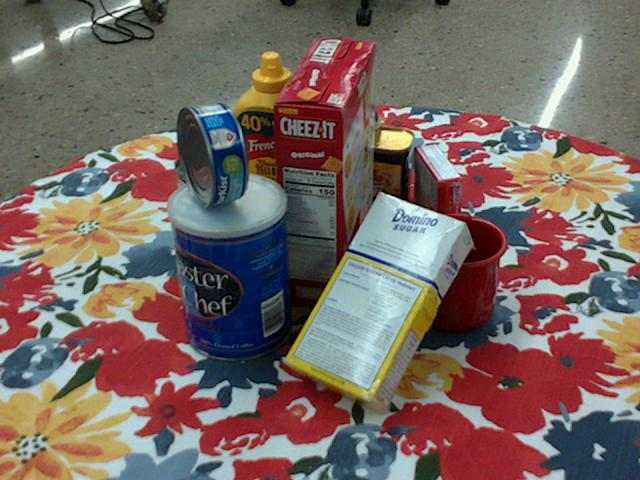cracker_box: (271, 40, 376, 311)
gelatin_box: (414, 142, 461, 238)
large_marker: (347, 77, 381, 128)
master_chef_can: (168, 174, 291, 364)
mug: (379, 212, 506, 331)
mustard_bottle: (230, 52, 323, 226)
potted_meat_can: (322, 122, 415, 212)
sugar_box: (283, 194, 472, 418)
tomato_soup_can: (175, 149, 247, 263)
tuna_fish_can: (175, 102, 248, 207)
